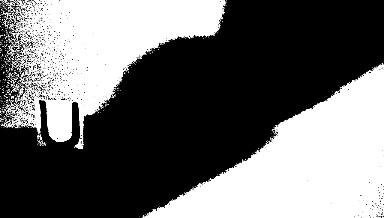U: (34, 97, 82, 148)
